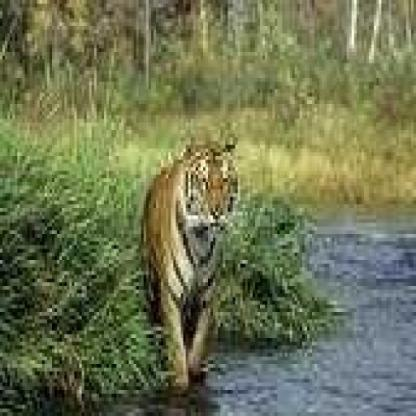Tiger: (108, 114, 258, 404)
